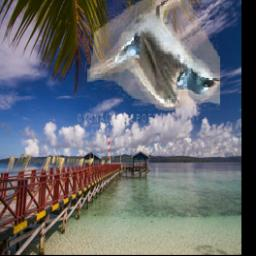Swallow: (88, 0, 221, 112)
